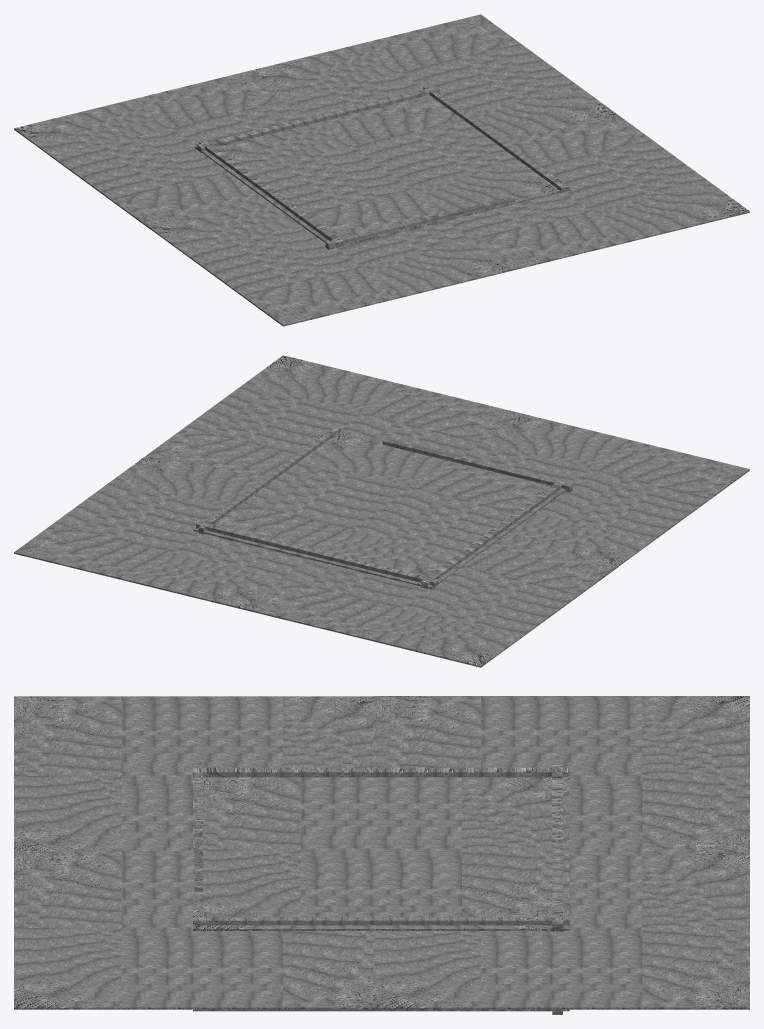
The model's file is evilControlTower.glb.
3 renders of one model, top to bottom at view 1: azimuth 30°, elevation 25°; view 2: azimuth 150°, elevation 25°; view 3: azimuth 270°, elevation 25°, orthographic. The views are drawn at different scales.
Visible parts, largest first — view 1: ground, ground.004, ground.003, ground.001, ground.002, baseWall.001, baseWall, baseWall.002, baseWall.003; view 2: ground, ground.001, ground.002, ground.003, ground.004, baseWall.001, baseWall, baseWall.002, baseWall.003; view 3: ground, ground.002, ground.003, ground.001, ground.004, baseWall.003, baseWall, baseWall.001, baseWall.002.
Part boxes in pixels (bbox=[...]): ground: bbox=[195, 92, 570, 248]; ground.004: bbox=[146, 196, 521, 326]; ground.003: bbox=[446, 112, 749, 270]; ground.001: bbox=[14, 70, 314, 230]; ground.002: bbox=[247, 14, 618, 142]; baseWall.001: bbox=[197, 86, 439, 152]; baseWall: bbox=[199, 140, 343, 247]; baseWall.002: bbox=[325, 196, 515, 249]; baseWall.003: bbox=[423, 86, 565, 193]; ground: bbox=[193, 428, 566, 588]; ground.001: bbox=[242, 537, 618, 667]; ground.002: bbox=[14, 453, 316, 611]; ground.003: bbox=[146, 355, 521, 482]; ground.004: bbox=[457, 411, 749, 569]; baseWall.001: bbox=[196, 521, 438, 587]; baseWall: bbox=[420, 480, 565, 588]; baseWall.002: bbox=[382, 439, 572, 492]; baseWall.003: bbox=[198, 426, 340, 533]; ground: bbox=[193, 777, 569, 930]; ground.002: bbox=[373, 855, 749, 1009]; ground.003: bbox=[14, 851, 390, 1009]; ground.001: bbox=[373, 696, 749, 855]; ground.004: bbox=[14, 696, 390, 853]; baseWall.003: bbox=[193, 917, 569, 1011]; baseWall: bbox=[193, 767, 569, 777]; baseWall.001: bbox=[552, 765, 562, 1014]; baseWall.002: bbox=[194, 762, 202, 891].
Bounding box in the file's own units: 3915 × 532 × 3909.
Materials: 1 (1 with a texture image).
